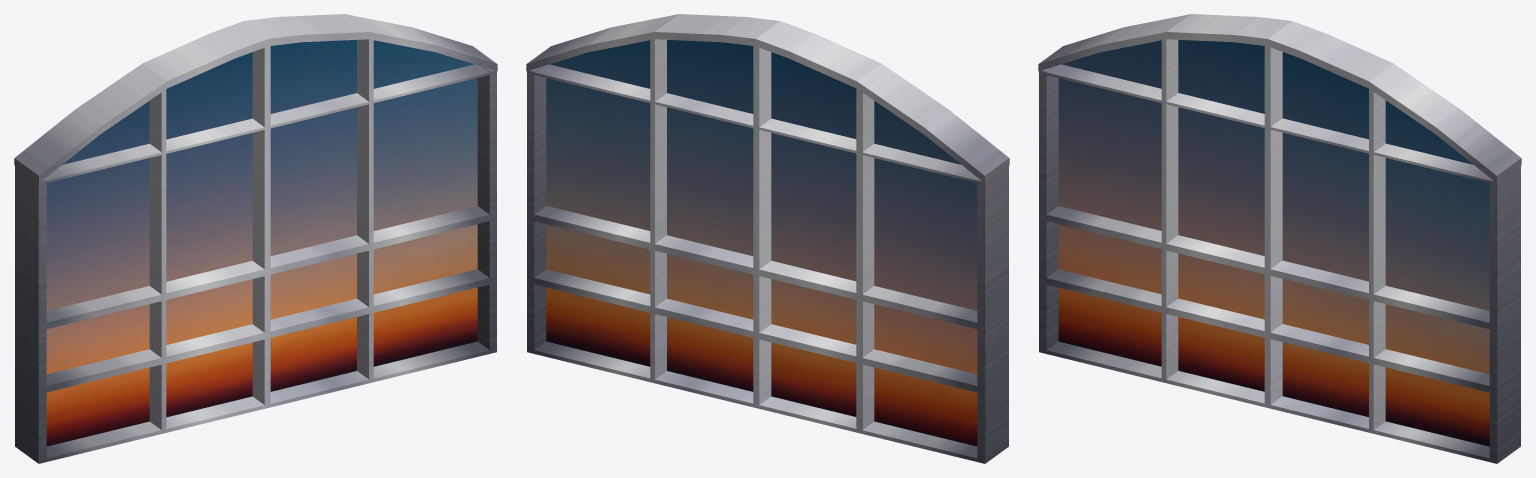
Rendered from windows.fbx.
3 views of the same model, side by side, from view 1: azimuth 30°, elevation 25°; view 2: azimuth 150°, elevation 25°; view 3: azimuth 330°, elevation 25° (orthographic).
Parts seen in each view (by area): view 1: Plane, Cube, Cube.001; view 2: Plane, Cube, Cube.001; view 3: Plane, Cube, Cube.001.
Part boxes in pixels (<box>): Plane: <box>46,40,477,446</box>; Cube: <box>15,39,496,463</box>; Cube.001: <box>14,14,497,182</box>; Plane: <box>546,40,977,446</box>; Cube: <box>527,39,1008,463</box>; Cube.001: <box>526,14,1009,182</box>; Plane: <box>1058,40,1489,446</box>; Cube: <box>1039,39,1520,463</box>; Cube.001: <box>1038,14,1521,182</box>.
Size of the model in its own units: 2209 by 1700 by 205.
